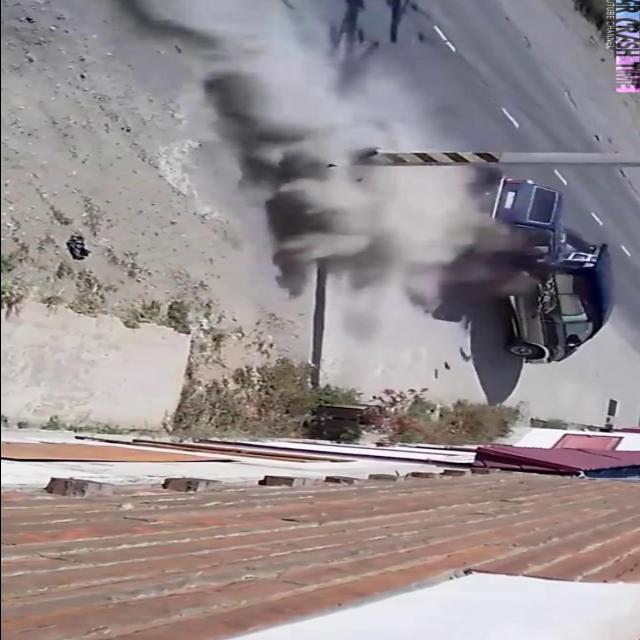accident: (410, 165, 626, 371)
